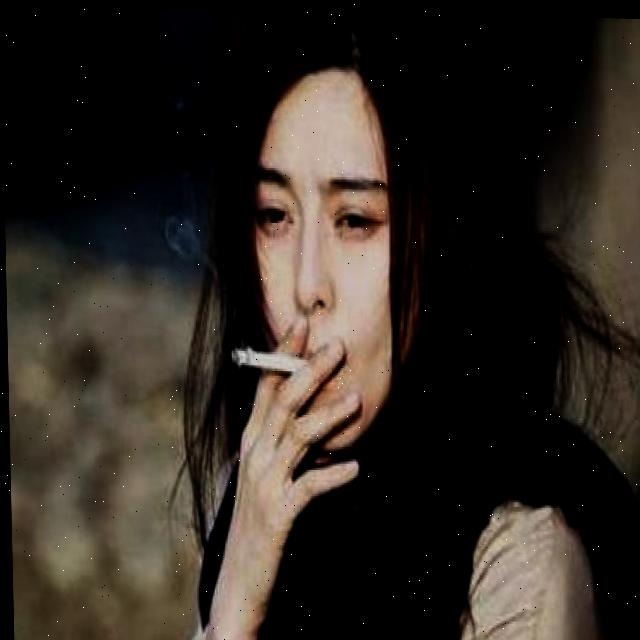cigarette: (228, 346, 314, 375)
